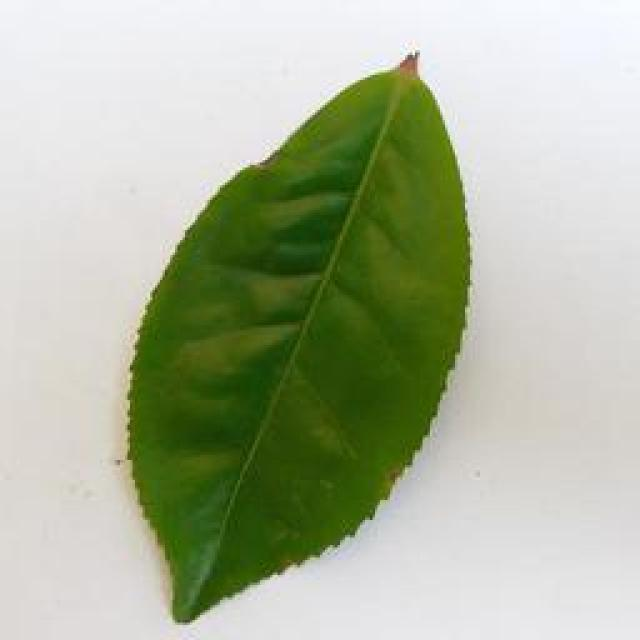Healthy: (114, 54, 470, 622)
